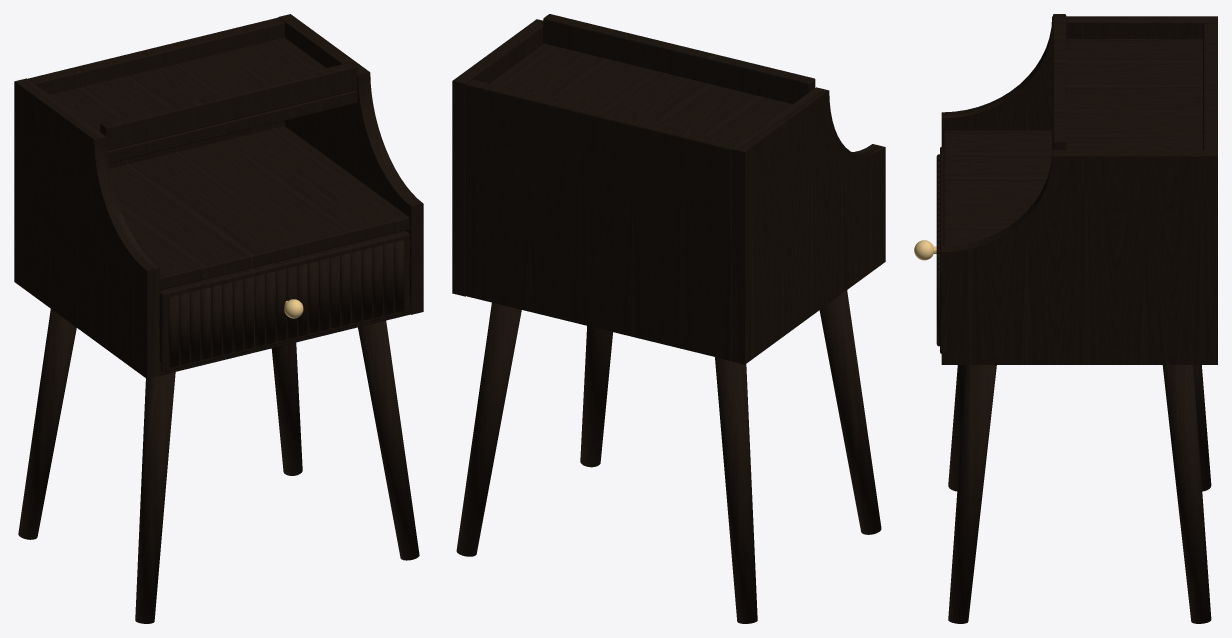
File: nightstand_clean.glb
3 renders of one model, left to right at view 1: azimuth 30°, elevation 25°; view 2: azimuth 150°, elevation 25°; view 3: azimuth 270°, elevation 25°, orthographic. The views are drawn at different scales.
Visible parts, largest first — view 1: ETIQUETTE ART Fluted Nightstand; view 2: ETIQUETTE ART Fluted Nightstand; view 3: ETIQUETTE ART Fluted Nightstand.
Boxes of the visible parts, box(x1,y1,x2,y2) form: ETIQUETTE ART Fluted Nightstand: box(14, 14, 423, 623); ETIQUETTE ART Fluted Nightstand: box(452, 14, 885, 623); ETIQUETTE ART Fluted Nightstand: box(914, 14, 1217, 623).
Bounding box in the file's own units: 0.3674 × 0.5726 × 0.33.
2 materials, 1 textured.
